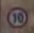limite 70: (6, 6, 28, 28)
